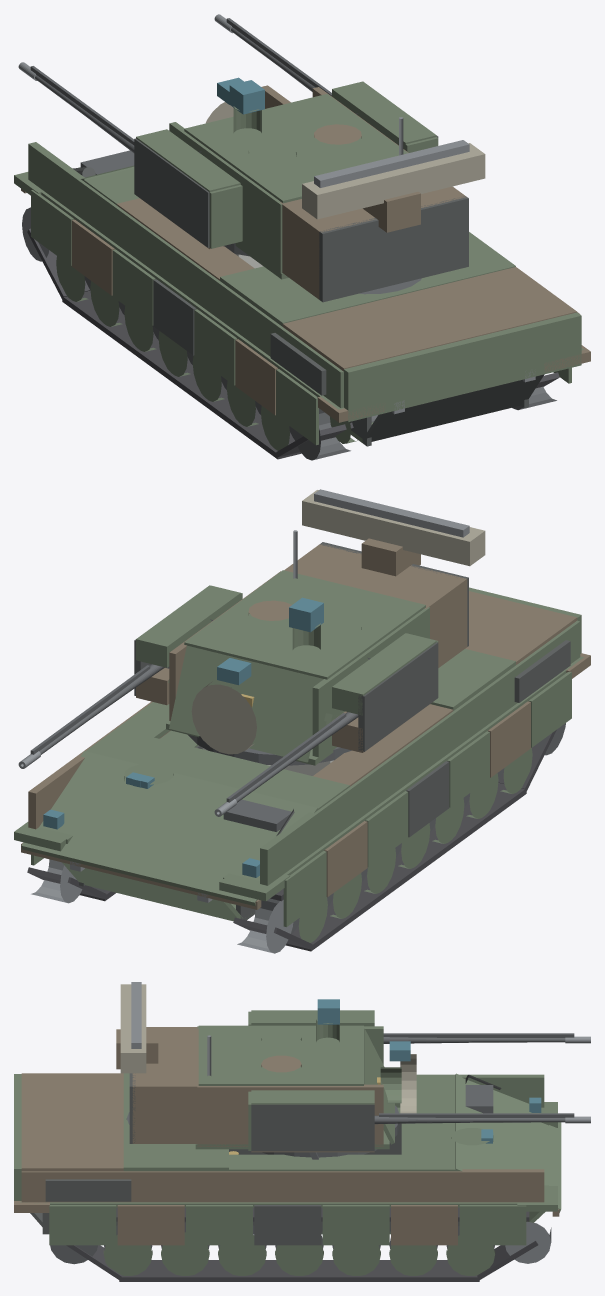
The model's file is gepard-ext.glb.
3 renders of one model, top to bottom at view 1: azimuth 30°, elevation 25°; view 2: azimuth 150°, elevation 25°; view 3: azimuth 270°, elevation 25°, orthographic. The views are drawn at different scales.
Parts seen in each view (by area): view 1: ext_hull_engine_deck_aft, ext_hull_stern_upper, ext_hull_upper_sponson_port, ext_turret_roof_plate, ext_turret_bustle_rear_wall, ext_hull_engine_deck_fwd, ext_search_radar_mpdr12_antenna, ext_kda_pod_outer_cheek_port, ext_turret_bustle_electronics_bay, ext_hull_stern_lower, ext_turret_side_wall_port, ext_track_bottom_run_port (+33 smaller); view 2: ext_hull_upper_glacis, ext_turret_roof_plate, ext_hull_upper_sponson_port, ext_turret_glacis_nose, ext_turret_bustle_electronics_bay, ext_hull_roof_fwd, ext_search_radar_mpdr12_antenna, ext_hull_engine_deck_aft, ext_kda_pod_outer_cheek_port, ext_track_bottom_run_port, ext_kda_pod_upper_cowl_stbd, ext_tracking_radar_radome_dish (+45 smaller); view 3: ext_hull_upper_sponson_stbd, ext_hull_engine_deck_aft, ext_turret_roof_plate, ext_turret_bustle_electronics_bay, ext_hull_upper_glacis, ext_kda_pod_outer_cheek_stbd, ext_track_bottom_run_stbd, ext_turret_side_wall_stbd, ext_hull_roof_fwd, ext_hull_engine_deck_fwd, ext_hull_roof_cheek_stbd, ext_side_skirt_stbd_3 (+45 smaller).
Boxes of the visible parts, x1=… form: ext_hull_engine_deck_aft: x1=282, y1=267, x2=576, y2=371; ext_hull_stern_upper: x1=344, y1=312, x2=581, y2=421; ext_hull_upper_sponson_port: x1=28, y1=142, x2=343, y2=407; ext_turret_roof_plate: x1=184, y1=94, x2=407, y2=203; ext_turret_bustle_rear_wall: x1=319, y1=196, x2=468, y2=302; ext_hull_engine_deck_fwd: x1=220, y1=232, x2=515, y2=326; ext_search_radar_mpdr12_antenna: x1=302, y1=143, x2=485, y2=219; ext_kda_pod_outer_cheek_port: x1=134, y1=138, x2=209, y2=247; ext_turret_bustle_electronics_bay: x1=280, y1=186, x2=466, y2=299; ext_hull_stern_lower: x1=362, y1=374, x2=544, y2=443; ext_turret_side_wall_port: x1=169, y1=122, x2=282, y2=275; ext_track_bottom_run_port: x1=62, y1=290, x2=301, y2=459; ext_hull_upper_glacis: x1=21, y1=751, x2=317, y2=906; ext_turret_roof_plate: x1=184, y1=570, x2=425, y2=679; ext_hull_upper_sponson_port: x1=260, y1=620, x2=580, y2=885; ext_turret_glacis_nose: x1=169, y1=645, x2=323, y2=762; ext_turret_bustle_electronics_bay: x1=284, y1=544, x2=467, y2=667; ext_hull_roof_fwd: x1=86, y1=728, x2=349, y2=809; ext_search_radar_mpdr12_antenna: x1=302, y1=490, x2=485, y2=566; ext_hull_engine_deck_aft: x1=465, y1=591, x2=577, y2=664; ext_kda_pod_outer_cheek_port: x1=358, y1=642, x2=438, y2=751; ext_track_bottom_run_port: x1=286, y1=783, x2=526, y2=951; ext_kda_pod_upper_cowl_stbd: x1=136, y1=585, x2=240, y2=667; ext_tracking_radar_radome_dish: x1=191, y1=681, x2=256, y2=754; ext_hull_upper_sponson_stbd: x1=21, y1=1169, x2=544, y2=1202; ext_hull_engine_deck_aft: x1=21, y1=1073, x2=123, y2=1171; ext_turret_roof_plate: x1=198, y1=1025, x2=363, y2=1085; ext_turret_bustle_electronics_bay: x1=132, y1=1027, x2=201, y2=1143; ext_hull_upper_glacis: x1=455, y1=1073, x2=561, y2=1212; ext_kda_pod_outer_cheek_stbd: x1=251, y1=1104, x2=374, y2=1151; ext_track_bottom_run_stbd: x1=119, y1=1260, x2=479, y2=1281; ext_turret_side_wall_stbd: x1=197, y1=1084, x2=383, y2=1147; ext_hull_roof_fwd: x1=401, y1=1074, x2=455, y2=1171; ext_hull_engine_deck_fwd: x1=123, y1=1073, x2=228, y2=1171; ext_hull_roof_cheek_stbd: x1=229, y1=1154, x2=401, y2=1171; ext_side_skirt_stbd_3: x1=322, y1=1205, x2=389, y2=1245.
Size of the model in its own units: 3.29 by 3.21 by 7.68.
